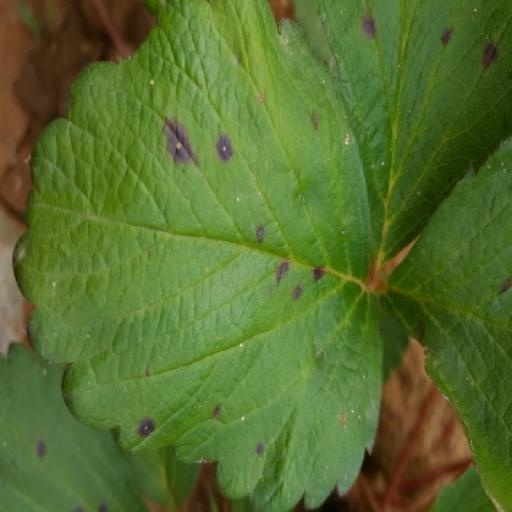Leaf Spot: (127, 0, 501, 511), (0, 242, 222, 511), (307, 0, 511, 170)
